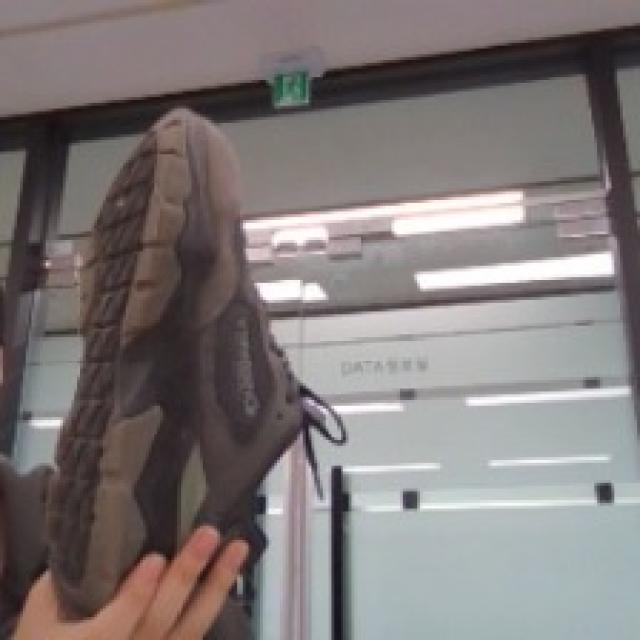shoe: (16, 90, 350, 620)
